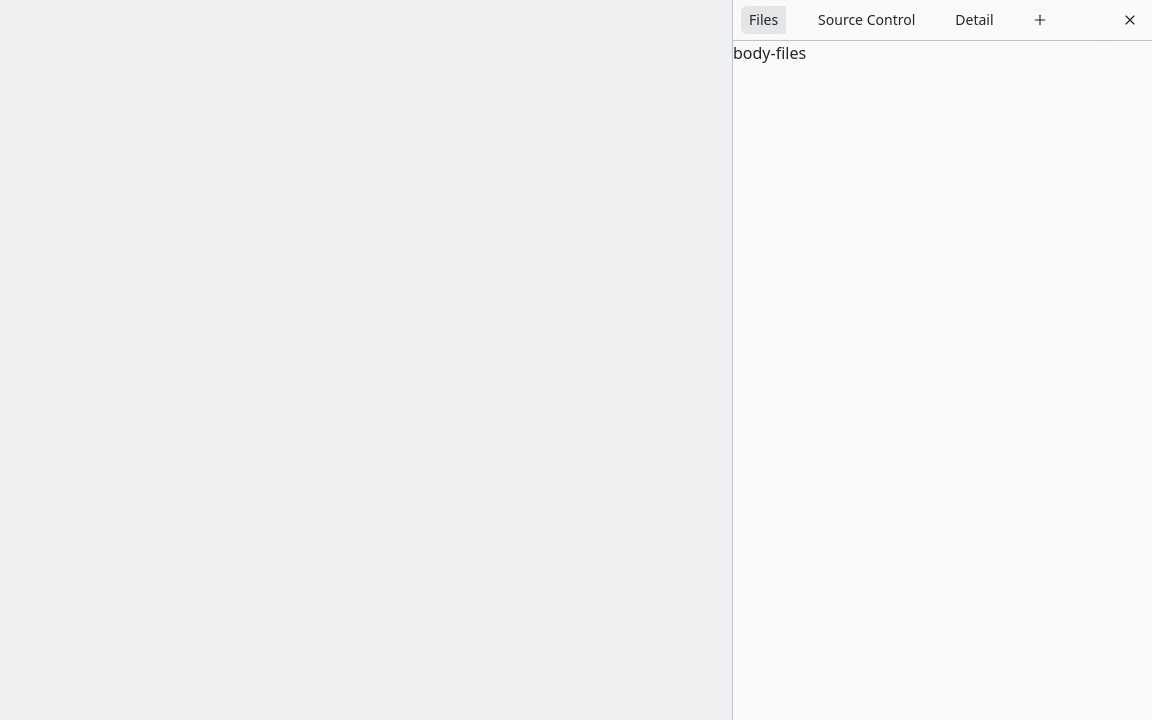
Test: SessionPanel › switches to another tab
The width and height of the screenshot is (1152, 720).
# tab labels come from navigation.* : Files, Source Control, Detail, Terminal
What coordinates should you click on to do the following:
click the button "Detail"
I would click on:
 (974, 20)
Its box is [947,6,1002,34].
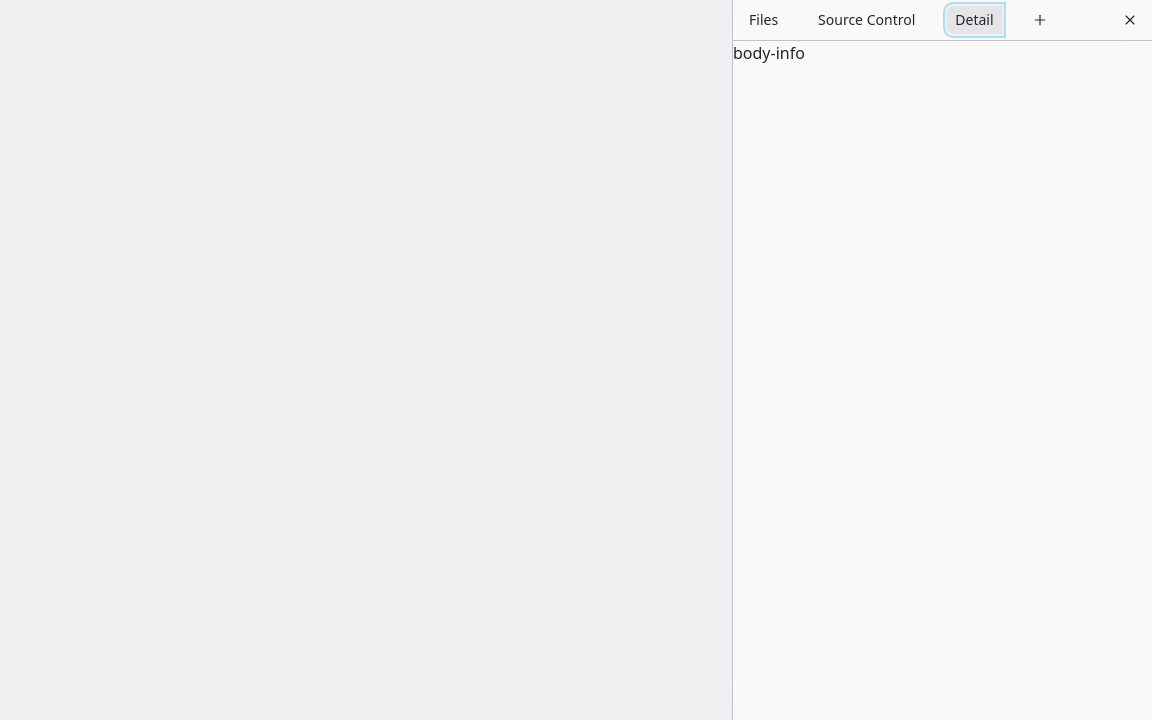
Result: the text "body-info" is shown at [733,42,805,64]
